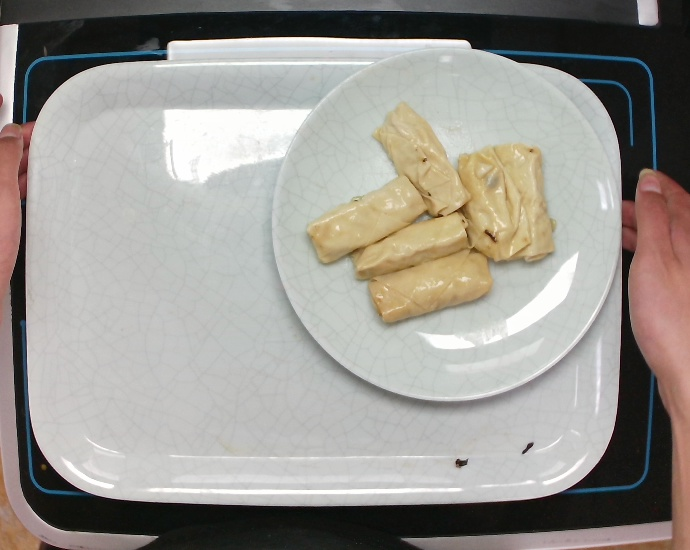JYsf-Da_Yuan_Pan: (267, 43, 628, 407)
